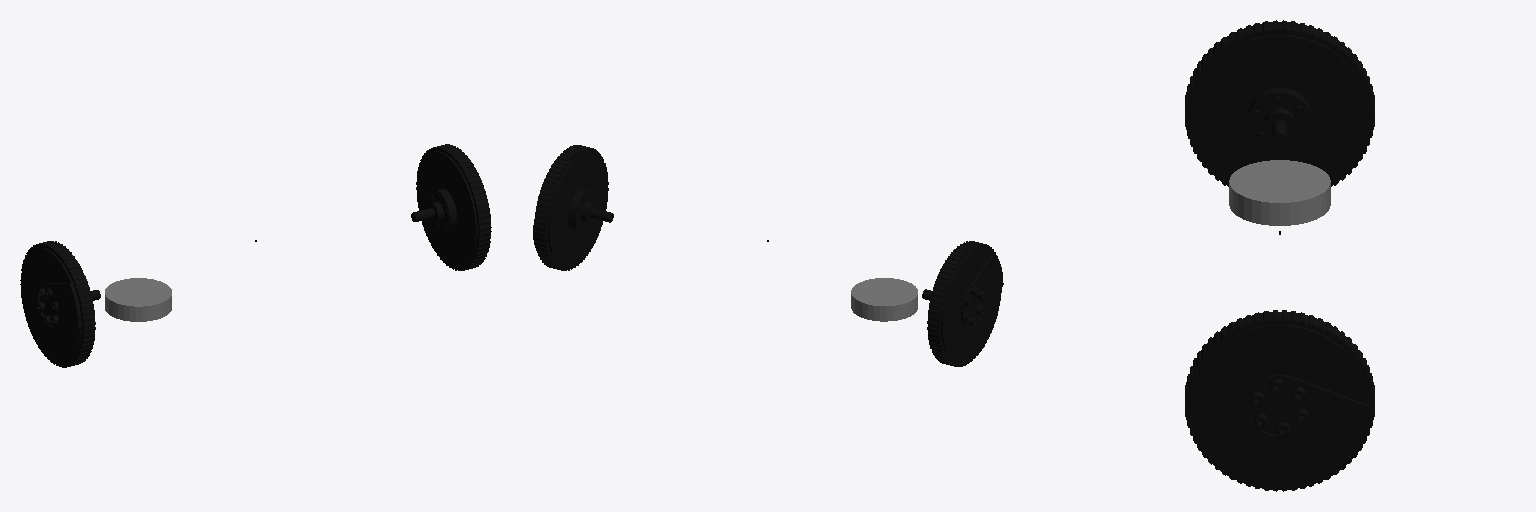
robot.urdf — acrome_mini_robot:
<?xml version="1.0"?>
<robot name="acrome_mini_robot" xmlns:xacro="http://www.ros.org/wiki/xacro">
  <!-- #############################################
       Minimal differential-drive URDF using STL meshes
       Paths are absolute as provided by you. Adjust joint/origin xyz
       values if the wheels do not align perfectly with the base mesh.
       REP-103 frames: +X forward, +Y left, +Z up.
       ############################################# -->

  <!-- ================= Base Link ================= -->
  <link name="base_link">
    <inertial>
      <!-- Placeholder inertia; replace with measured values if available -->
      <origin xyz="0 0 0" rpy="0 0 0"/>
      <mass value="2.0"/>
      <inertia ixx="0.02" ixy="0.0" ixz="0.0" iyy="0.03" iyz="0.0" izz="0.03"/>
    </inertial>

    <visual>
      <!-- If the model looks flipped, try rpy="0 0 3.14159" -->
      <origin xyz="0 0 0" rpy="0 0 0"/>
      <geometry>
        <mesh filename="package://set_slam/meshes/base_link.stl" scale="1 1 1"/>
      </geometry>
      <material name="base_grey">
        <color rgba="0.6 0.6 0.6 1.0"/>
      </material>
    </visual>

    <collision>
      <origin xyz="0 0 0" rpy="0 0 0"/>
      <geometry>
        <mesh filename="package://set_slam/meshes/base_link.stl" scale="1 1 1"/>
      </geometry>
    </collision>
  </link>

  <!-- A flat frame on the ground projection of base_link (handy for navigation) -->
  <link name="base_footprint"/>
  <joint name="base_footprint_joint" type="fixed">
    <parent link="base_footprint"/>
    <child link="base_link"/>
    <!-- Set z so base_footprint sits on the ground if your base_link z-origin is above ground -->
    <origin xyz="0 0 0" rpy="0 0 0"/>
  </joint>

  <!-- ================ Left Wheel ================ -->
  <link name="left_wheel_link">
    <inertial>
      <origin xyz="0 0 0" rpy="0 0 0"/>
      <mass value="0.25"/>
      <inertia ixx="0.0005" ixy="0.0" ixz="0.0" iyy="0.0007" iyz="0.0" izz="0.0005"/>
    </inertial>

    <visual>
      <origin xyz="0 0 0" rpy="0 0 0"/>
      <geometry>
        <mesh filename="package://set_slam/meshes/left_wheel.stl" scale="1 1 1"/>
      </geometry>
      <material name="wheel_black">
        <color rgba="0.1 0.1 0.1 1.0"/>
      </material>
    </visual>

    <collision>
      <origin xyz="0 0 0" rpy="0 0 0"/>
      <geometry>
        <mesh filename="package://set_slam/meshes/left_wheel.stl" scale="1 1 1"/>
      </geometry>
    </collision>
  </link>

  <joint name="left_wheel_joint" type="continuous">
    <parent link="base_link"/>
    <child link="left_wheel_link"/>
    <!--
      The wheel rotates around its axle; with REP-103 this is +Y.
      Tune xyz to place the wheel correctly relative to the base mesh.
      Example values below assume ~0.18 m track width and ~0.04 m radius.
    -->
    <origin xyz="-0.14 0 -0.01" rpy="0 0 0"/>
    <axis xyz="0 1 0"/>
  </joint>

  <!-- ================ Right Wheel ================ -->
  <link name="right_wheel_link">
    <inertial>
      <origin xyz="0 0 0" rpy="0 0 0"/>
      <mass value="0.25"/>
      <inertia ixx="0.0005" ixy="0.0" ixz="0.0" iyy="0.0007" iyz="0.0" izz="0.0005"/>
    </inertial>

    <visual>
      <origin xyz="0 0 0" rpy="0 0 0"/>
      <geometry>
        <mesh filename="package://set_slam/meshes/right_wheel.stl" scale="1 1 1"/>
      </geometry>
      <material name="wheel_black"/>
    </visual>

    <collision>
      <origin xyz="0 0 0" rpy="0 0 0"/>
      <geometry>
        <mesh filename="package://set_slam/meshes/right_wheel.stl" scale="1 1 1"/>
      </geometry>
    </collision>
  </link>

  <joint name="right_wheel_joint" type="continuous">
    <parent link="base_link"/>
    <child link="right_wheel_link"/>
    <origin xyz="0.14 0 -0.01" rpy="0 0 0"/>
    <axis xyz="0 1 0"/>
  </joint>

  <!-- ================= Optional caster (placeholder) ================= -->
  <!-- If your robot has a caster, define it here and connect with a fixed joint. -->

  <link name="caster_link">
    <visual>
      <geometry>
        <cylinder radius="0.02" length="0.01"/>
      </geometry>
      <material name="caster_grey"><color rgba="0.5 0.5 0.5 1.0"/></material>
    </visual>
  </link>
  <joint name="caster_joint" type="fixed">
    <parent link="base_link"/>
    <child link="caster_link"/>
    <origin xyz="-0.08 0 -0.02" rpy="0 0 0"/>
  </joint>

  <!-- ================= Coordinate frames (visual aids) ================= -->
  <!-- Small axis markers to help verify orientation in RViz -->
  <link name="base_axis_vis">
    <visual>
      <origin xyz="0 0 0" rpy="0 0 0"/>
      <geometry>
        <box size="0.001 0.001 0.001"/>
      </geometry>
      <material name="transparent"><color rgba="0 0 0 0"/></material>
    </visual>
  </link>
  <joint name="base_axis_joint" type="fixed">
    <parent link="base_link"/>
    <child link="base_axis_vis"/>
    <origin xyz="0 0 0" rpy="0 0 0"/>
  </joint>

  <!-- ================= Notes =================
    * Tune the left/right wheel joint <origin> xyz until the wheels sit correctly in the model.
    * For simulation or control, add transmissions and gazebo_ros2_control plugins separately.
  ================= -->
</robot>

--- Facts derived from the render (not from the file) ---
Views: 3 orthographic renders of the robot side by side, from view 1: azimuth 30°, elevation 25°; view 2: azimuth 150°, elevation 25°; view 3: azimuth 270°, elevation 25°.
Model acrome_mini_robot with 6 links and 5 joints (2 continuous, 3 fixed), rooted at base_footprint, posed every joint at zero.
Links seen in each view (by area): view 1: left_wheel_link, right_wheel_link, caster_link; view 2: left_wheel_link, right_wheel_link, caster_link; view 3: right_wheel_link, left_wheel_link, caster_link.
Boxes of the visible links, box(x1,y1,x2,y2) form: left_wheel_link: box(20, 241, 100, 367); right_wheel_link: box(411, 144, 491, 270); caster_link: box(105, 278, 171, 321); left_wheel_link: box(922, 241, 1003, 366); right_wheel_link: box(533, 145, 613, 270); caster_link: box(851, 278, 917, 321); right_wheel_link: box(1185, 310, 1374, 491); left_wheel_link: box(1185, 20, 1374, 186); caster_link: box(1229, 160, 1330, 225).
Bounding box of the posed robot: 0.286 × 0.075 × 0.075 m (x, y, z).
Meshes: 3 distinct files referenced, 2 mesh visuals loaded (2 binary STL); not drawn: 1 (file found but could not be loaded).